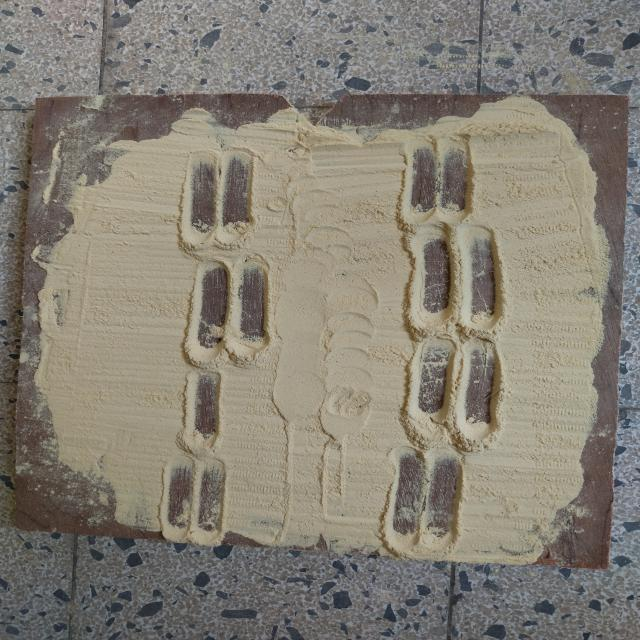double: (400, 218, 508, 340), (404, 334, 508, 447), (180, 254, 280, 370), (380, 444, 470, 561), (172, 146, 264, 256), (397, 132, 480, 228), (156, 452, 238, 549)
single: (173, 369, 231, 455)
